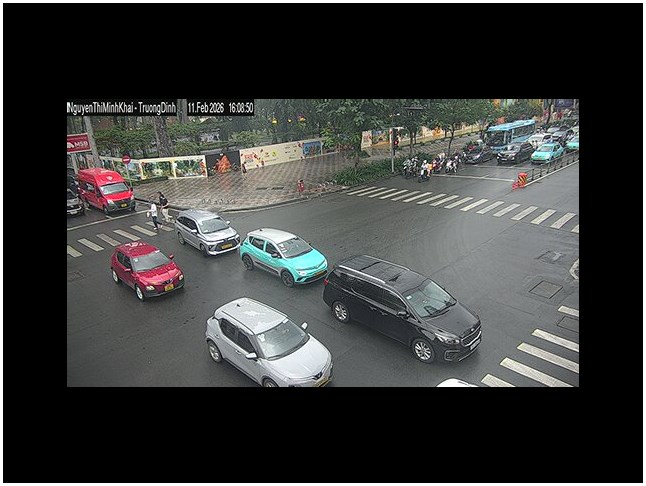car: (321, 253, 483, 364), (205, 296, 334, 387), (239, 226, 329, 287), (109, 240, 186, 300), (174, 209, 241, 257), (530, 141, 565, 164), (67, 187, 85, 215)
truck: (76, 168, 135, 214)
